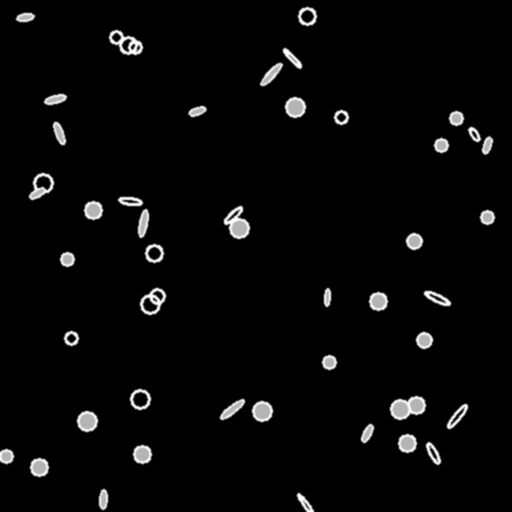pseudomonas: (259, 61, 283, 87), (219, 398, 245, 420), (446, 403, 468, 429), (222, 205, 244, 225), (282, 47, 302, 69), (424, 290, 450, 306), (425, 441, 441, 465), (296, 493, 316, 512), (137, 209, 149, 237), (52, 122, 66, 144), (360, 423, 374, 443), (44, 93, 66, 105), (28, 186, 46, 200), (467, 126, 481, 142), (119, 196, 141, 206), (188, 105, 206, 117), (16, 12, 34, 22), (482, 136, 492, 154), (100, 489, 106, 509), (324, 289, 330, 305)
synechocystis: (253, 402, 271, 420), (391, 400, 409, 418), (78, 412, 96, 430), (230, 219, 248, 237), (141, 295, 159, 313), (286, 98, 304, 116), (34, 174, 52, 192), (131, 390, 149, 408), (399, 435, 415, 451), (146, 245, 162, 261), (370, 293, 386, 309), (408, 397, 424, 413), (85, 202, 101, 218), (120, 37, 136, 53), (134, 446, 150, 462), (31, 459, 47, 475), (299, 8, 315, 24), (407, 234, 421, 248), (150, 289, 164, 303), (417, 333, 431, 347), (65, 332, 77, 344), (61, 253, 73, 265), (0, 450, 12, 462), (481, 211, 493, 223), (129, 41, 141, 53), (323, 356, 335, 368), (335, 111, 347, 123), (450, 112, 462, 124), (435, 139, 447, 151), (110, 31, 122, 43)
